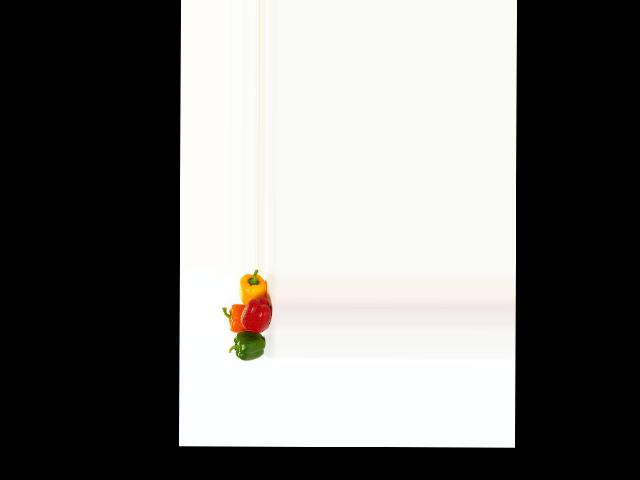bell_pepper: (231, 329, 270, 360)
